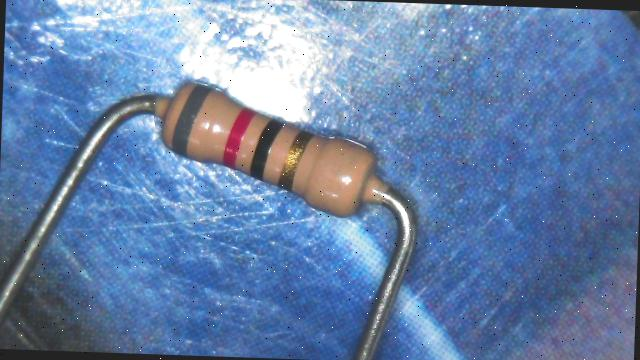black: (249, 119, 283, 180)
blue: (172, 85, 214, 155)
gold: (278, 130, 312, 191), (625, 10, 640, 29)
red: (222, 108, 255, 168)
resistor: (136, 54, 409, 238)
